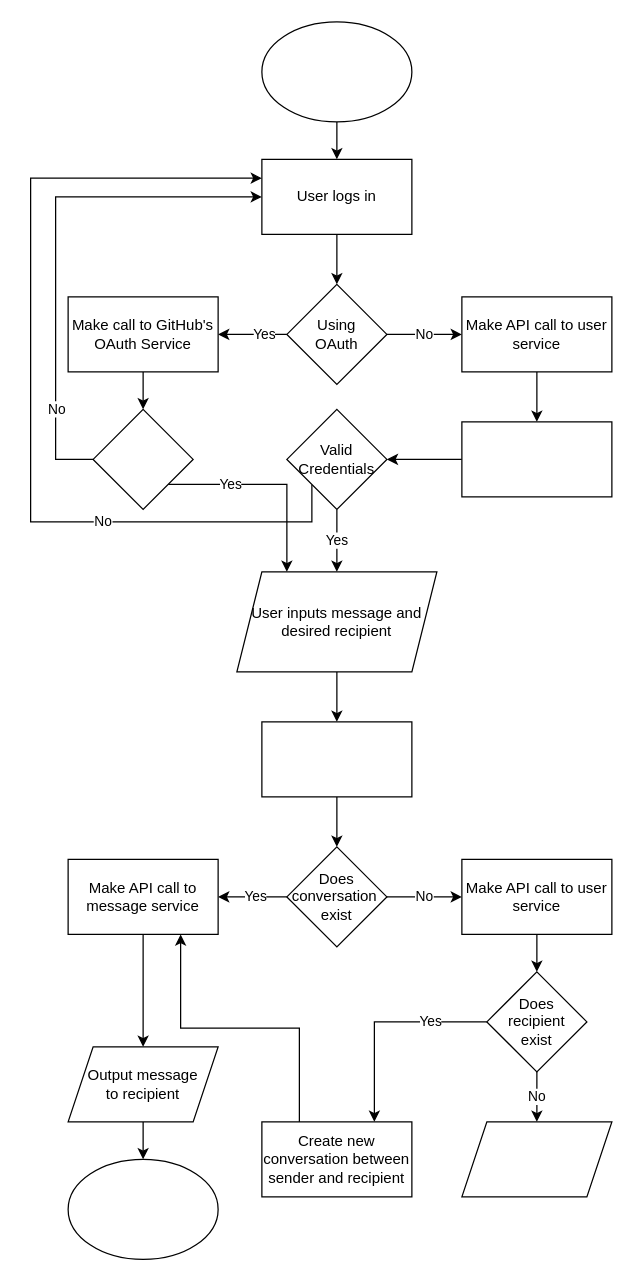
The diagram is 634 pixels wide and 1281 high, and some of its shapes have lost their labels. The shapes that lost their labels are listed below. From the top down, each one's centre as x and y in pixels, then its label:
At pixel 336 71: "Start".
At pixel 142 458: "Valid Response".
At pixel 536 459: "Check login credentials".
At pixel 336 759: "Make API call to conversation service".
At pixel 536 1159: "Return error to sender".
At pixel 142 1208: "End".
